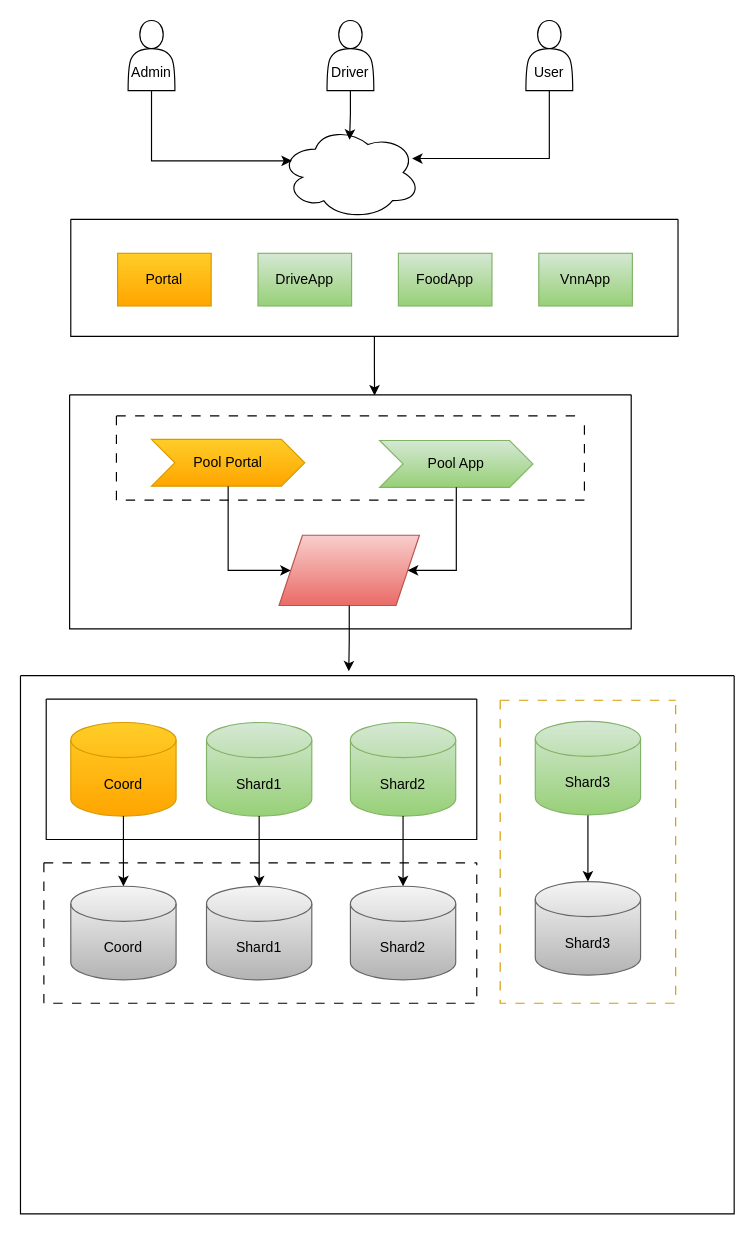
Image size: 755x1234. Some labels were removed from this diagram. The shapes that lost their labels are listed below. From the top down, each one's centre as x and y in pixels, then its label:
At (350,172): "AWS".
At (348,569): "HA Balance".
